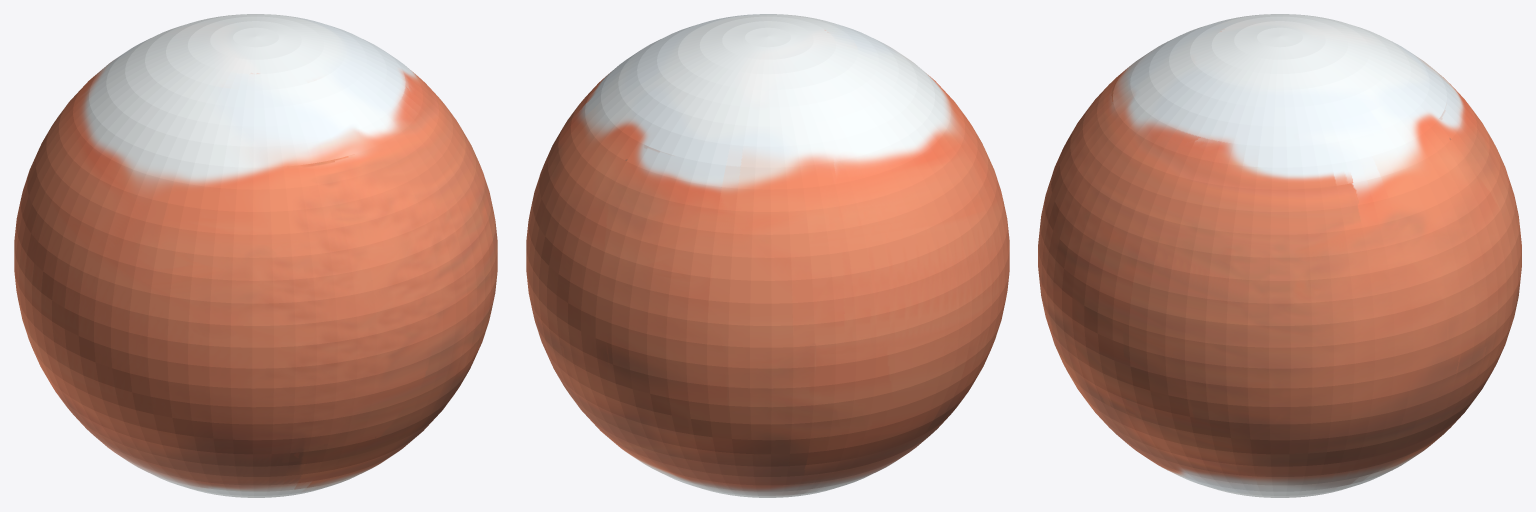
The model's file is mars.glb.
3 views of the same model, side by side, from view 1: azimuth 30°, elevation 25°; view 2: azimuth 150°, elevation 25°; view 3: azimuth 270°, elevation 25° (orthographic).
Visible parts, largest first — view 1: Sphere; view 2: Sphere; view 3: Sphere.
Boxes of the visible parts, <box> form: Sphere: <box>14,14,497,497</box>; Sphere: <box>526,14,1009,497</box>; Sphere: <box>1038,14,1521,497</box>.
Size of the model in its own units: 2 by 2 by 2.
1 material, 1 textured.
